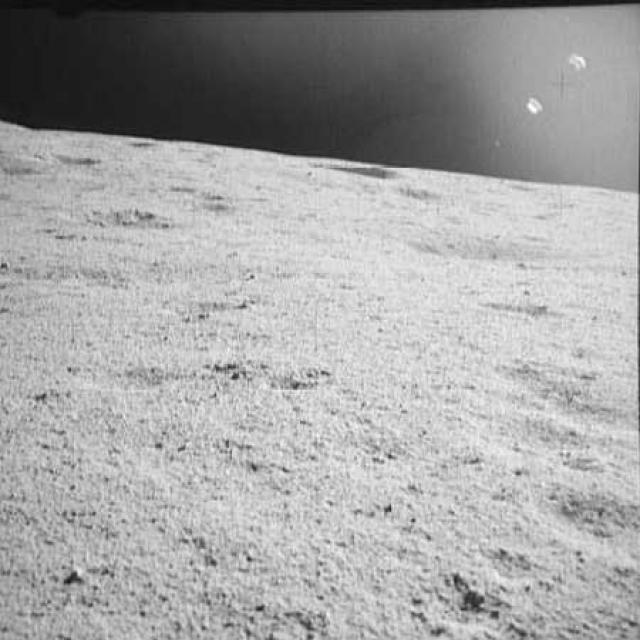crater: (410, 225, 588, 269)
